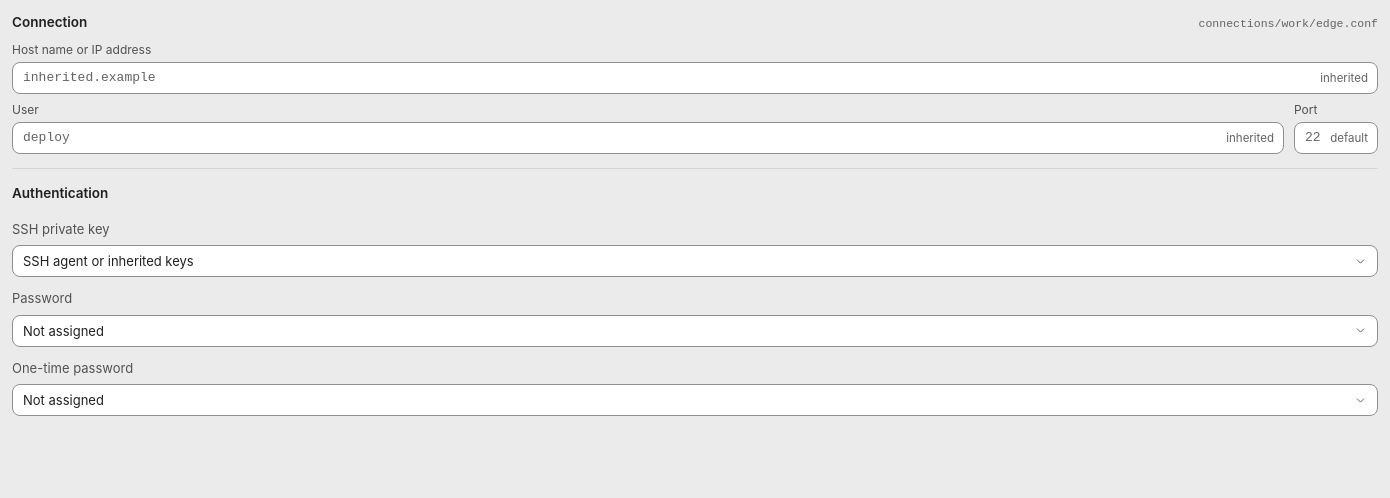
Test: ConnectionBasicForm › offers an explicit discard action in the save bar
The width and height of the screenshot is (1390, 498).
In the field labelled "Host name or IP address": (695, 78) [12,62,1378,94], type "draft.example"
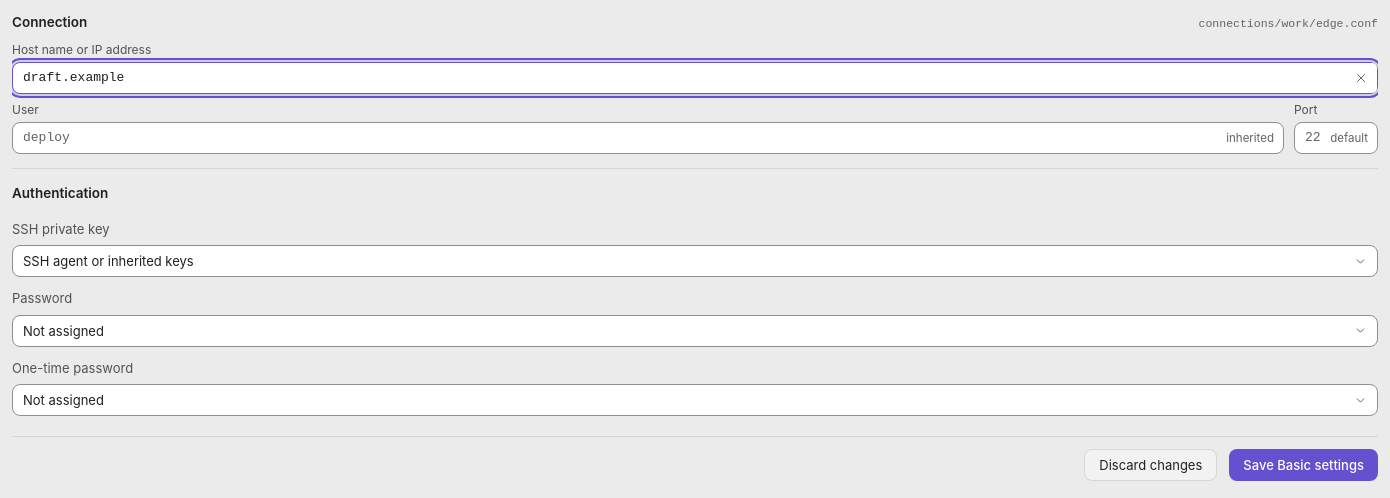
Click the button "Discard changes": (1151, 465) [1084,449,1217,481]
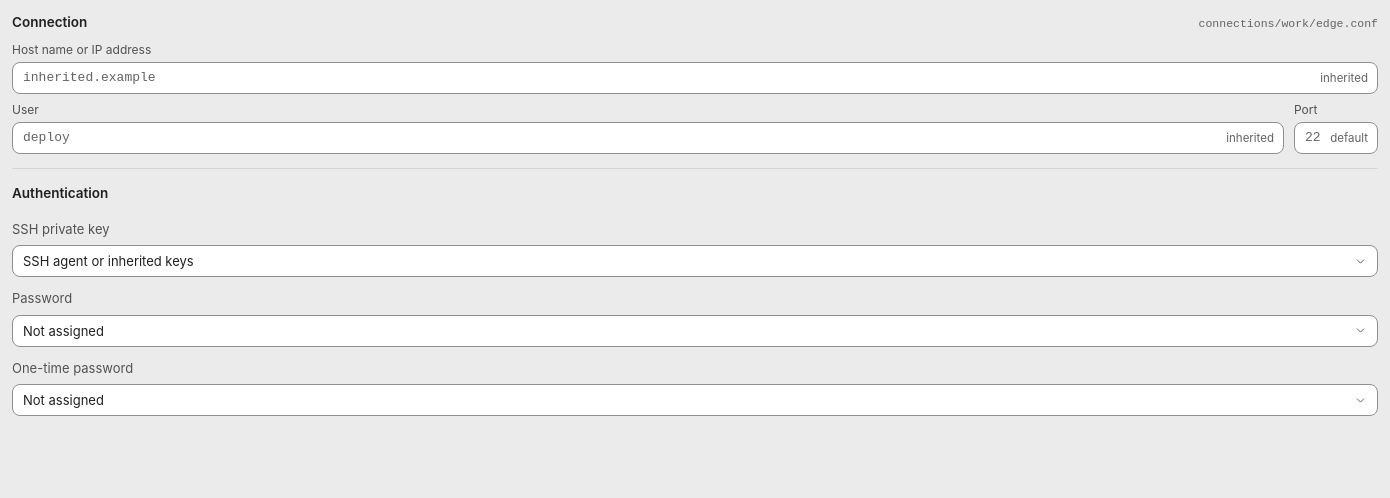
Now the button "Save Basic settings" is gone
